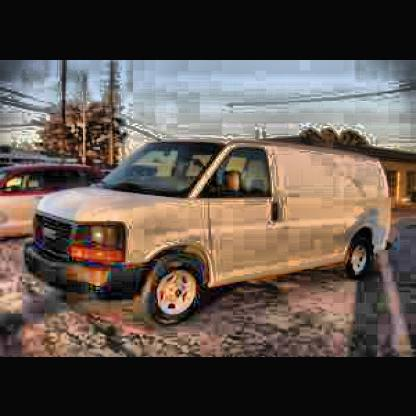GMC Savana Van 2012: (25, 137, 394, 329)
